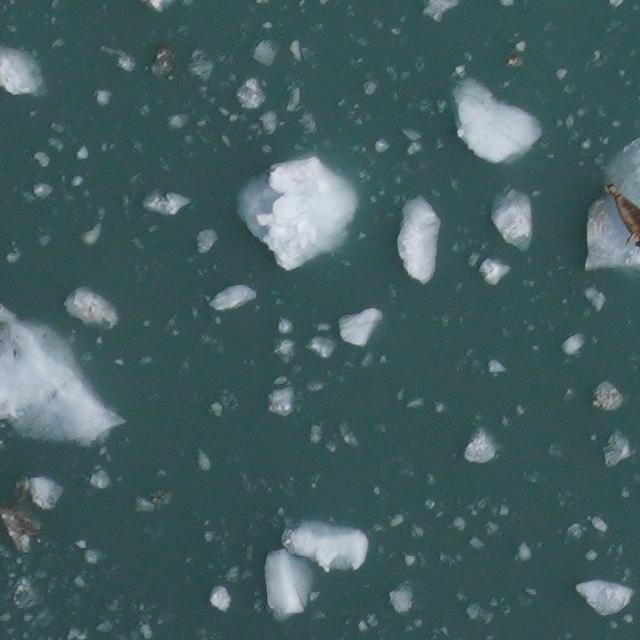seal: (599, 178, 640, 250)
